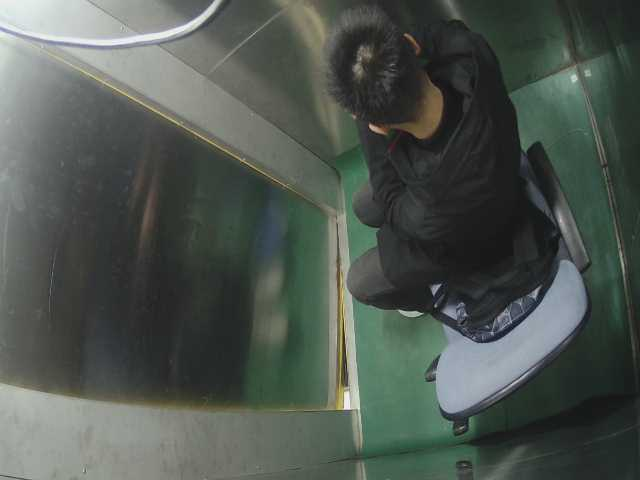chair: (417, 134, 590, 440)
person: (313, 3, 535, 325)
